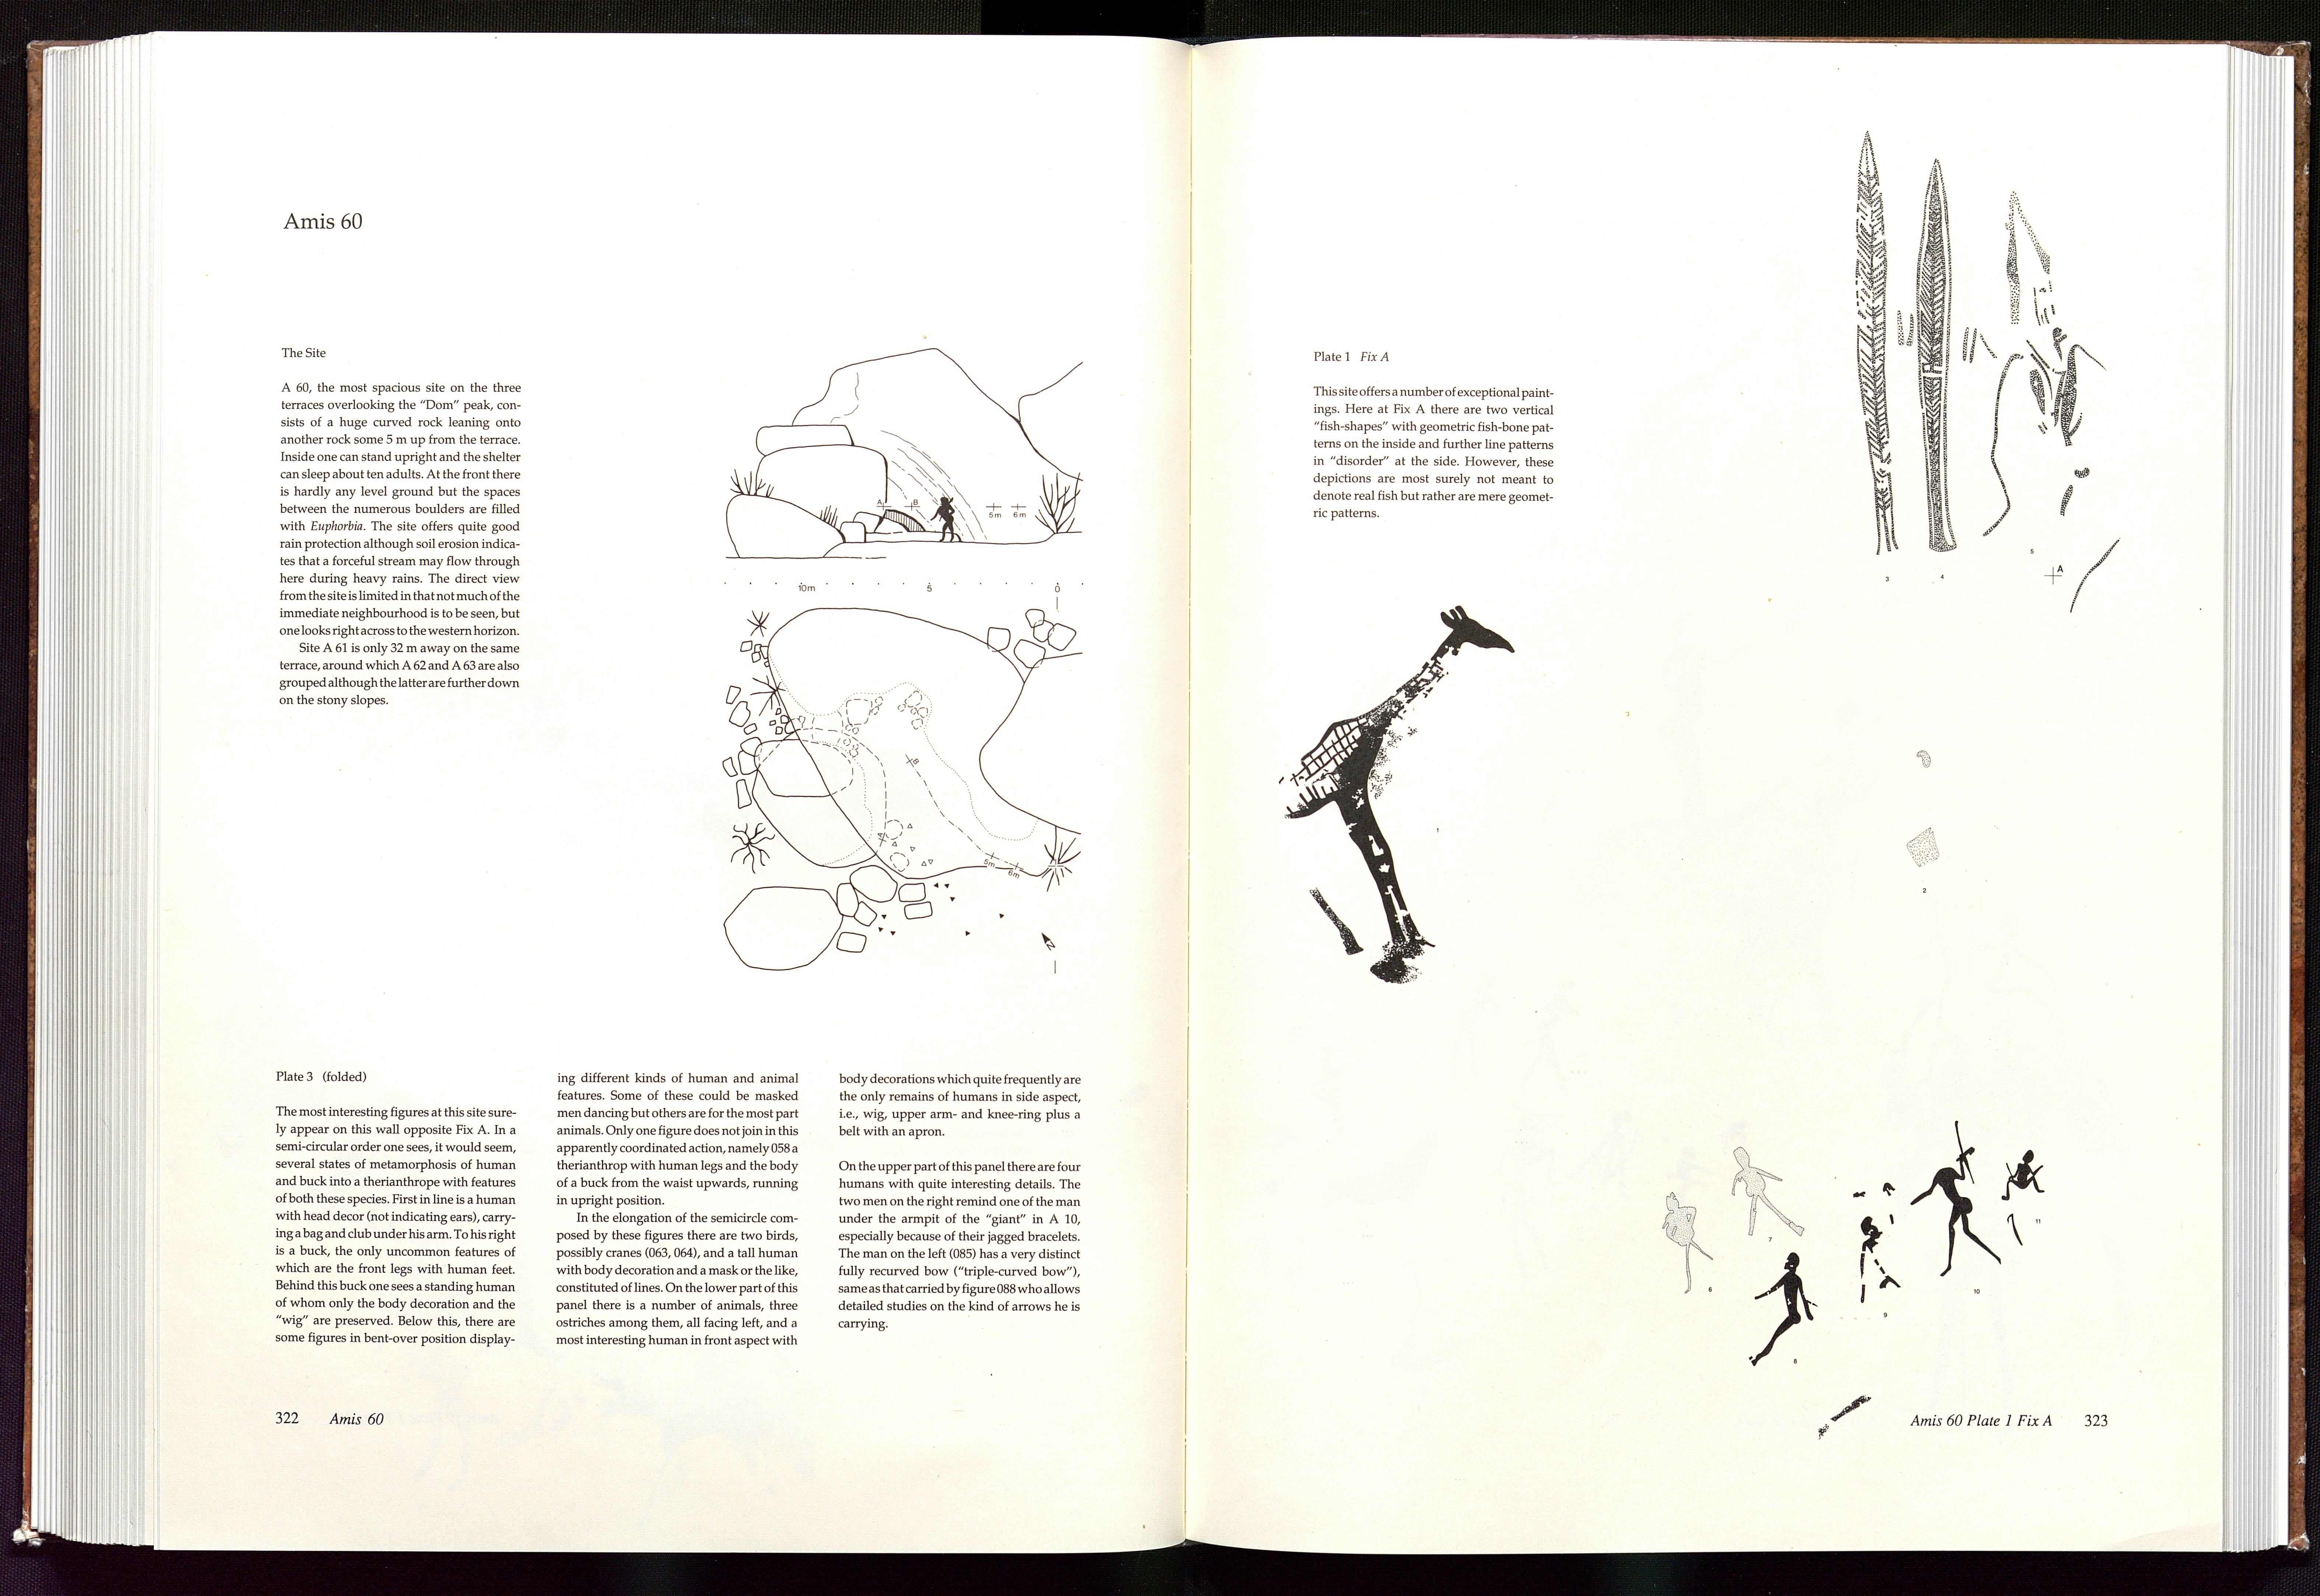animal: (1254, 588, 1525, 991)
human: (1902, 1113, 2004, 1285), (1742, 1248, 1821, 1375), (1726, 1138, 1811, 1243), (1841, 1178, 1902, 1309), (1660, 1188, 1716, 1296), (1996, 1146, 2049, 1201)
